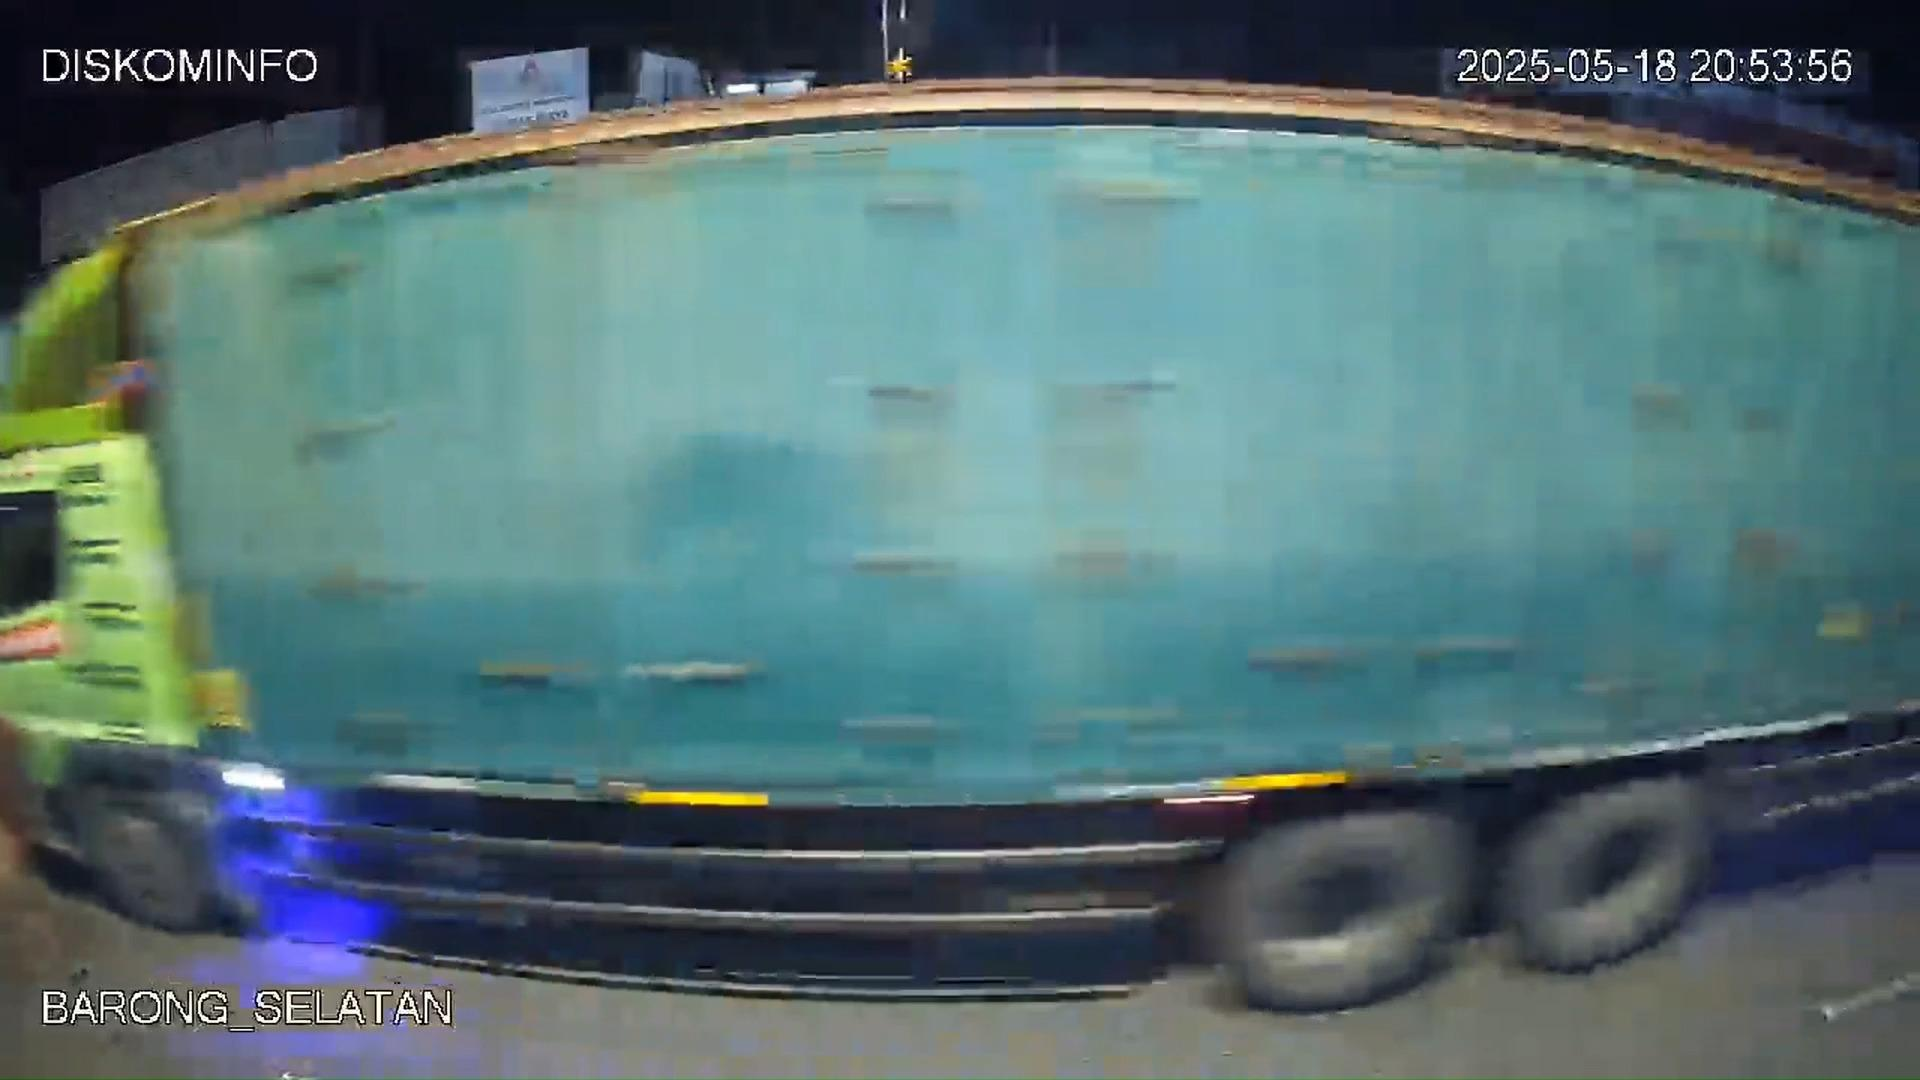Truck: (4, 177, 1920, 984)
